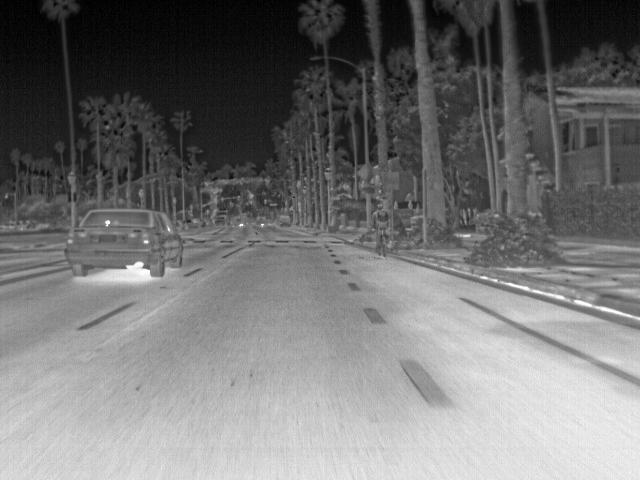car: (64, 206, 186, 278), (276, 213, 294, 228)
person: (371, 204, 390, 245)
